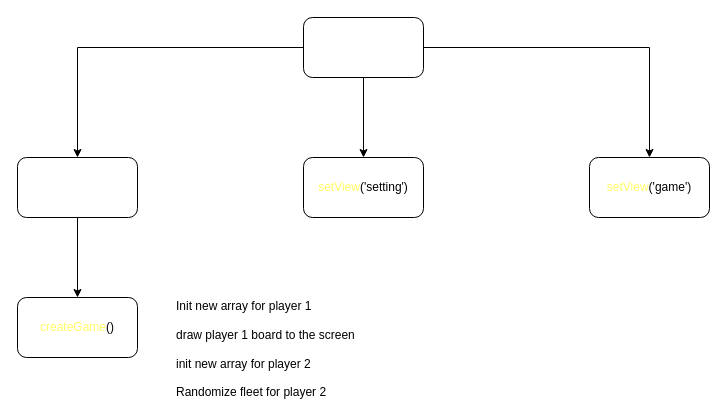
Image size: 727x417. Some labels were removed from this diagram. The box of each missing label's shape, as (x1, y1, x2, y2) in pixels:
new Game: (302, 16, 424, 78)
setView ('start'): (16, 156, 138, 218)
